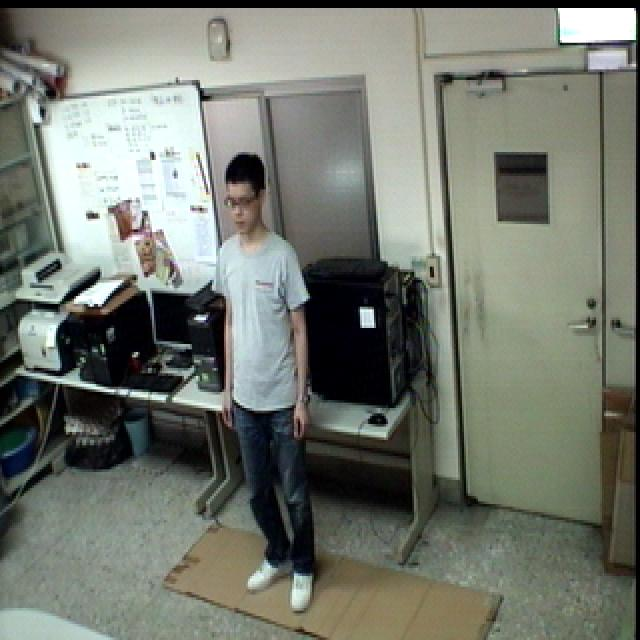stand: (208, 145, 330, 622)
